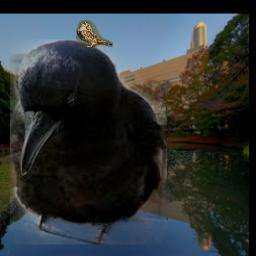Crow: (11, 40, 168, 245)
Sparrow: (77, 20, 114, 47)
